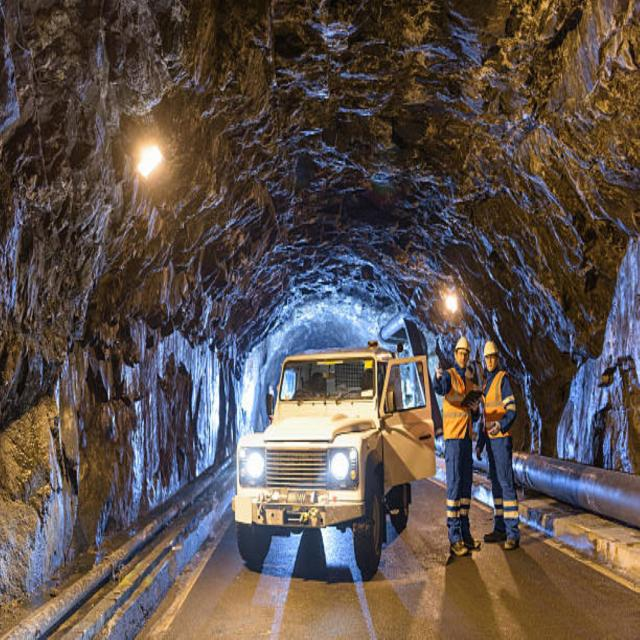light_vehicle: (227, 324, 438, 590)
